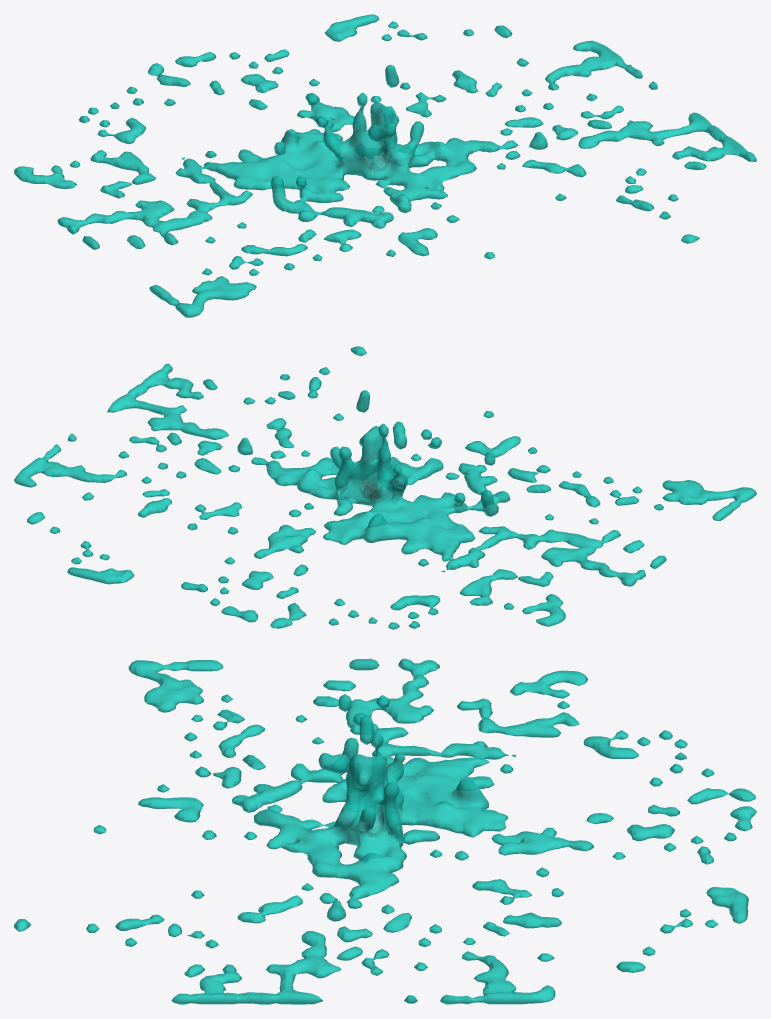
The picture shows the model from 3 angles, top to bottom: view 1: azimuth 30°, elevation 25°; view 2: azimuth 150°, elevation 25°; view 3: azimuth 270°, elevation 25°; orthographic projection. The views are drawn at different scales.
Visible parts, largest first — view 1: Liquid_Domain; view 2: Liquid_Domain; view 3: Liquid_Domain.
Part boxes in pixels (x1,y1,x2,y2): Liquid_Domain: (14,14,756,317); Liquid_Domain: (14,346,756,629); Liquid_Domain: (14,658,756,1004).
Bounding box in the file's own units: 12.43 × 2.19 × 11.51.
